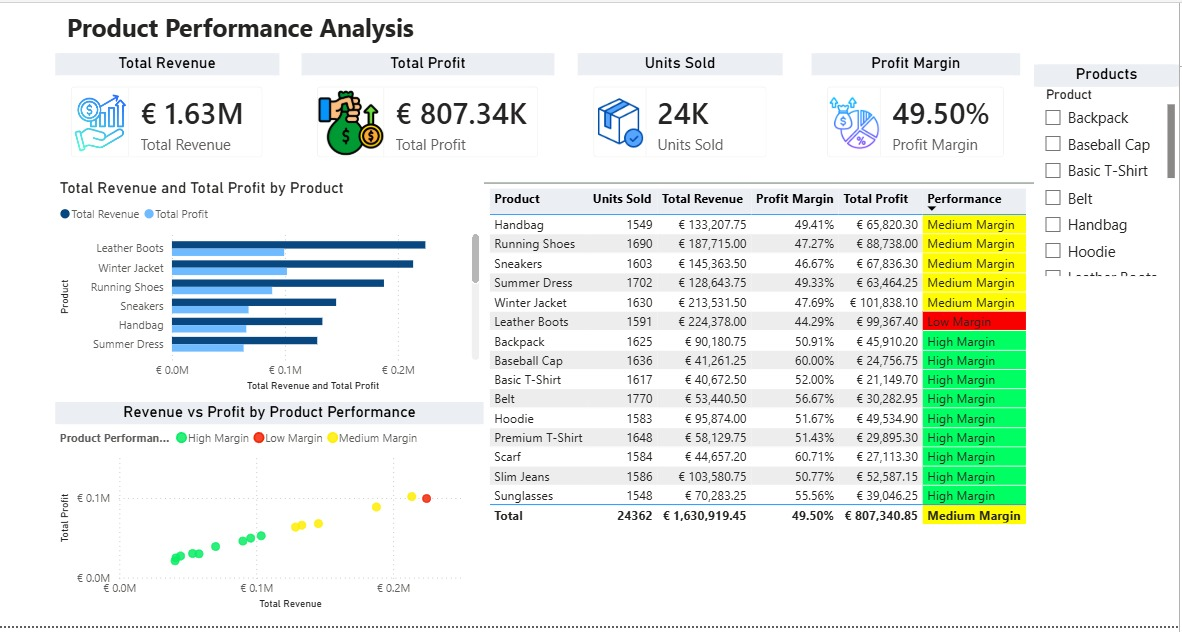

The page's visual inventory and layout, read from the dashboard file:
{"tool":"powerbi","page":{"name":"Product Performance Analysis","canvas":[1280,720],"ordinal":1},"visuals":[{"type":"cardVisual","title":"Total Revenue","fields":{"Data":["Sales.Total Revenue"]},"box":[60.4,98.8,242.9,130.4],"z":0},{"type":"cardVisual","title":"Total Profit","fields":{"Data":["Sales.Total Profit"]},"box":[328,98.8,274.4,130.4],"z":1000},{"type":"cardVisual","title":"Units Sold","fields":{"Data":["Sales.Units Sold"]},"box":[628.5,98.8,222.3,130.4],"z":2000},{"type":"cardVisual","title":"Profit Margin","fields":{"Data":["Sales.Profit Margin"]},"box":[881,98.8,226.4,130.4],"z":3000},{"type":"clusteredBarChart","fields":{"Y":["Sales.Total Revenue","Sales.Total Profit"],"Category":["Products.Product"]},"box":[60.4,234.6,465.2,236],"z":4000},{"type":"slicer","title":"Products","fields":{"Values":["Products.Product"]},"box":[1122.5,111.1,157.8,234.6],"z":5000},{"type":"scatterChart","title":"Revenue vs Profit by Product Performance","fields":{"X":["Sales.Total Revenue"],"Y":["Sales.Total Profit"],"Category":["Products.Product"],"Series":["Sales.Product Performance Column"]},"box":[60.4,477.5,465.2,230.5],"z":6000},{"type":"tableEx","fields":{"Values":["Products.Product","Sales.Units Sold","Sales.Total Revenue","Sales.Profit Margin","Sales.Total Profit","Sales.Product Performance"]},"box":[525.6,234.6,596.9,396.6],"z":7000},{"type":"textbox","box":[61,47.5,434,51.5],"z":7001}]}

Visuals, with their boxes on the page's 1280x720 design canvas (x1, y1, x2, y2). These are canvas units, not pixel positions in the 1182x632 screenshot, which may show the page scaled, cropped or inside an application window:
"Total Revenue" cardVisual: 60/99/303/229
"Total Profit" cardVisual: 328/99/602/229
"Units Sold" cardVisual: 628/99/851/229
"Profit Margin" cardVisual: 881/99/1107/229
clusteredBarChart - Sales.Total Revenue x Sales.Total Profit: 60/235/526/471
"Products" slicer: 1122/111/1280/346
"Revenue vs Profit by Product Performance" scatterChart: 60/478/526/708
tableEx - Products.Product x Sales.Units Sold: 526/235/1122/631
textbox: 61/48/495/99
